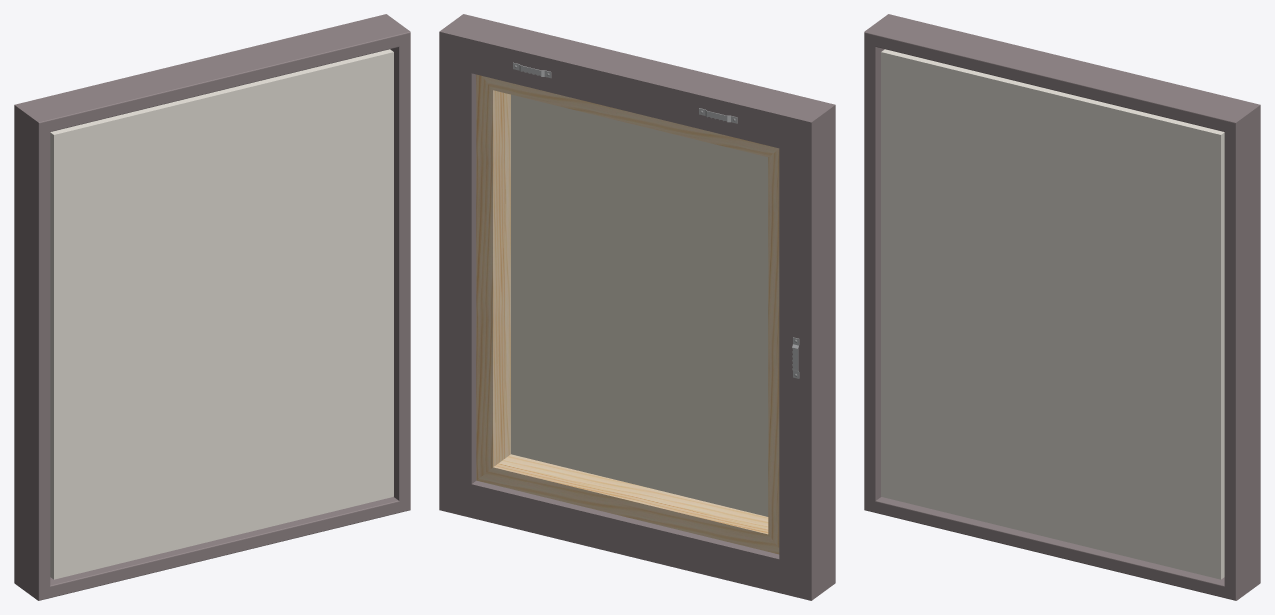
Rendered from delivery.glb.
3 views of the same model, side by side, from view 1: azimuth 30°, elevation 25°; view 2: azimuth 150°, elevation 25°; view 3: azimuth 330°, elevation 25° (orthographic).
Parts seen in each view (by area): view 1: Canvas artwork front, Tray approved profile 0; view 2: Canvas linen reverse, Tray approved profile 0, Stretcher top, Sawtooth hanger 0; view 3: Canvas artwork front, Tray approved profile 0.
Boxes of the visible parts, <box> form: Canvas artwork front: <box>50,49,393,579</box>; Tray approved profile 0: <box>14,14,410,600</box>; Canvas linen reverse: <box>511,94,768,516</box>; Tray approved profile 0: <box>439,14,835,600</box>; Stretcher top: <box>476,74,779,554</box>; Sawtooth hanger 0: <box>513,62,799,378</box>; Canvas artwork front: <box>881,49,1224,579</box>; Tray approved profile 0: <box>864,14,1260,600</box>.
Size of the model in its own units: 0.438 by 0.538 by 0.0524.
7 materials, 2 textured.
